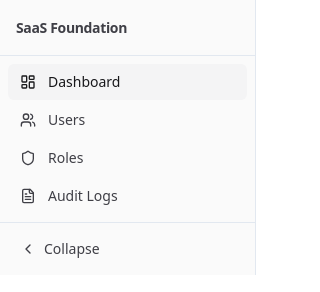
Test case: Sidebar › hides text labels when collapsed, shows them when expanded
This screenshot has width=320, height=292.
Expected: the text "Dashboard" is shown, [48,72,120,92]
# Click collapse button
Click the button with aria-label "collapse sidebar" at (128, 249), box [8,231,247,267]
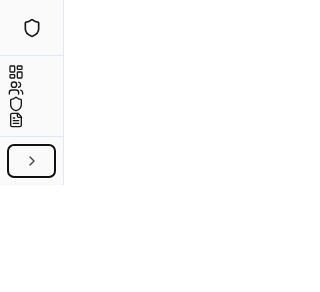
Now the link "Dashboard" is gone
